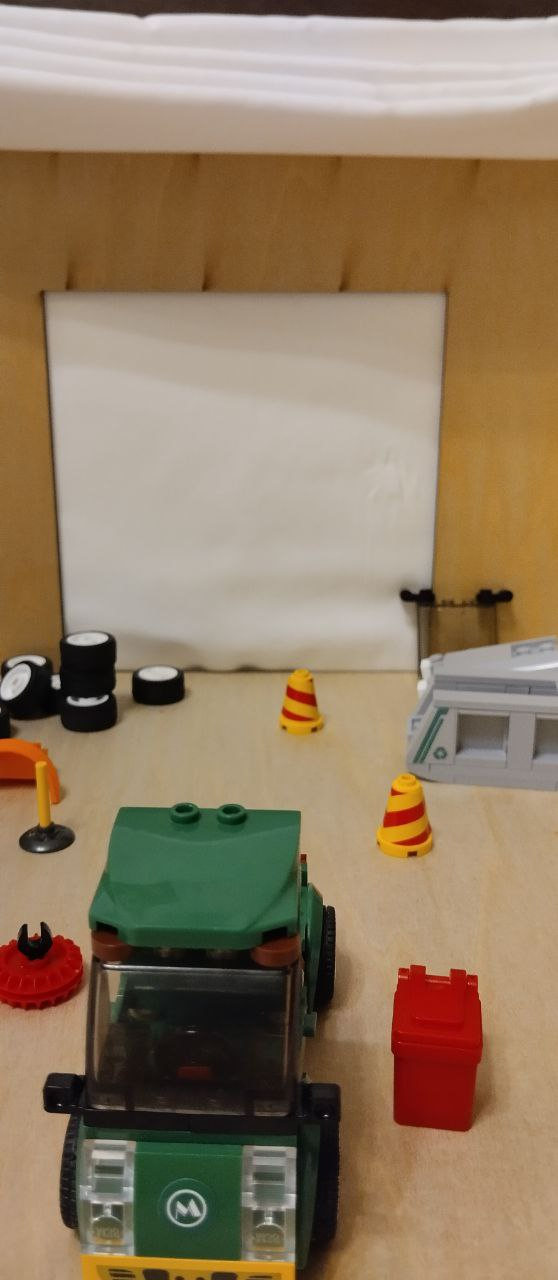Cone: (376, 775, 438, 863), (277, 671, 331, 738)
Object Red: (389, 966, 494, 1134)
Truck: (42, 796, 348, 1277)
